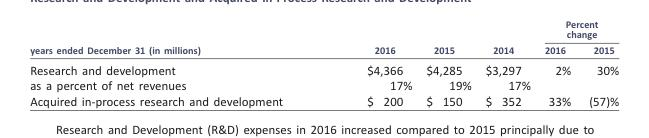table: (29, 29, 618, 107)
table column: (29, 29, 324, 107), (324, 29, 418, 107), (418, 29, 477, 107), (477, 29, 536, 107), (536, 29, 579, 107), (579, 29, 618, 107)
table column header: (29, 29, 618, 59)
table row: (29, 59, 618, 77), (29, 42, 618, 59), (29, 77, 618, 93), (29, 93, 618, 107), (29, 29, 618, 42)
table spanning cell: (29, 29, 324, 59), (324, 29, 418, 59), (418, 29, 477, 59), (477, 29, 536, 59), (536, 29, 618, 42)
